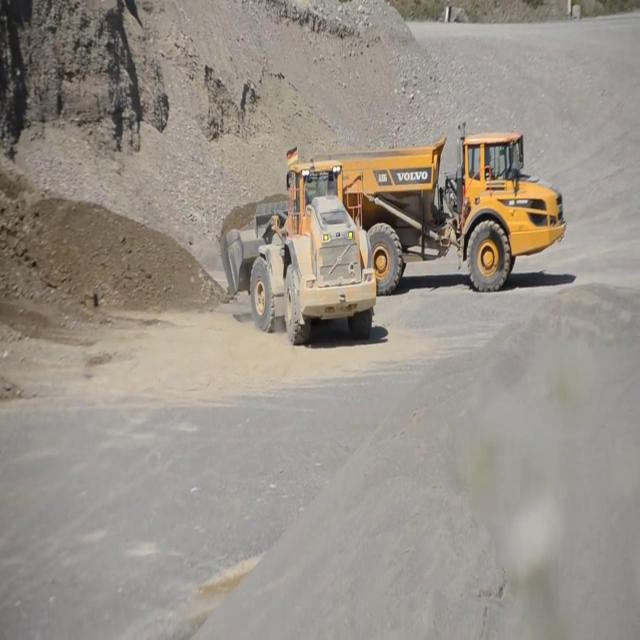Dump Truck: (286, 115, 568, 298)
Loader: (214, 151, 378, 350)
